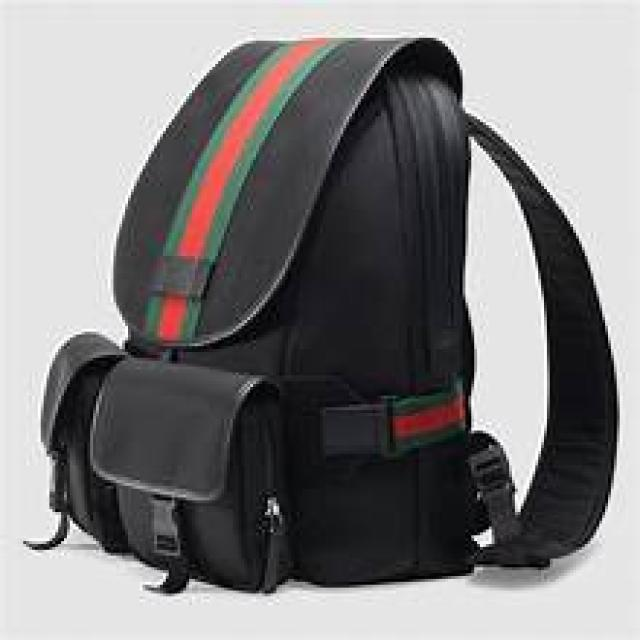backpack: (24, 36, 621, 594)
